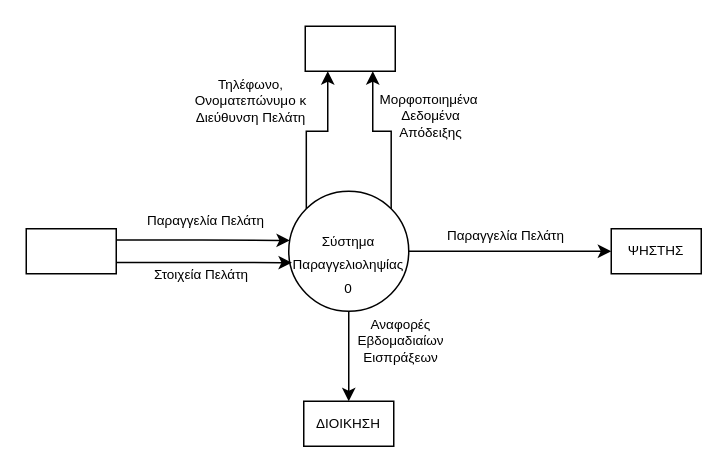
Some shapes in this 728 by 473 pixel diagram are drawn without their labels. Each missing label, with the centre of its shape:
ΔΙΑΝΟΜΕΑΣ: point (349, 48)
ΠΕΛΑΤΗΣ: point (70, 250)
